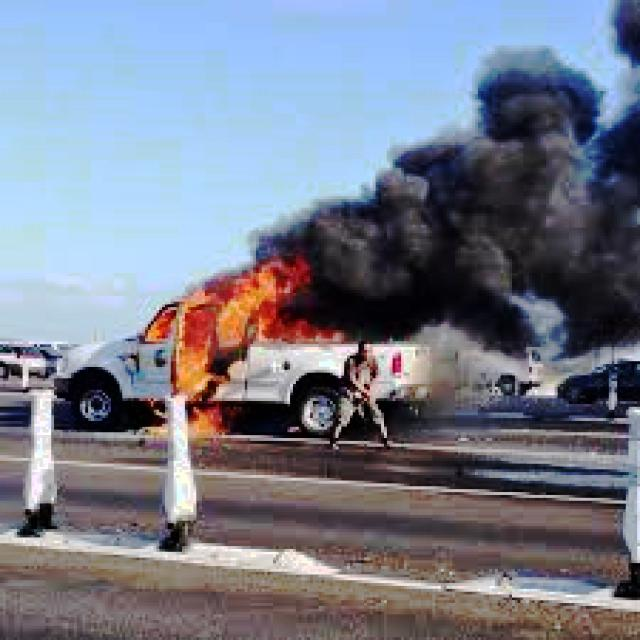api: (141, 268, 357, 439)
